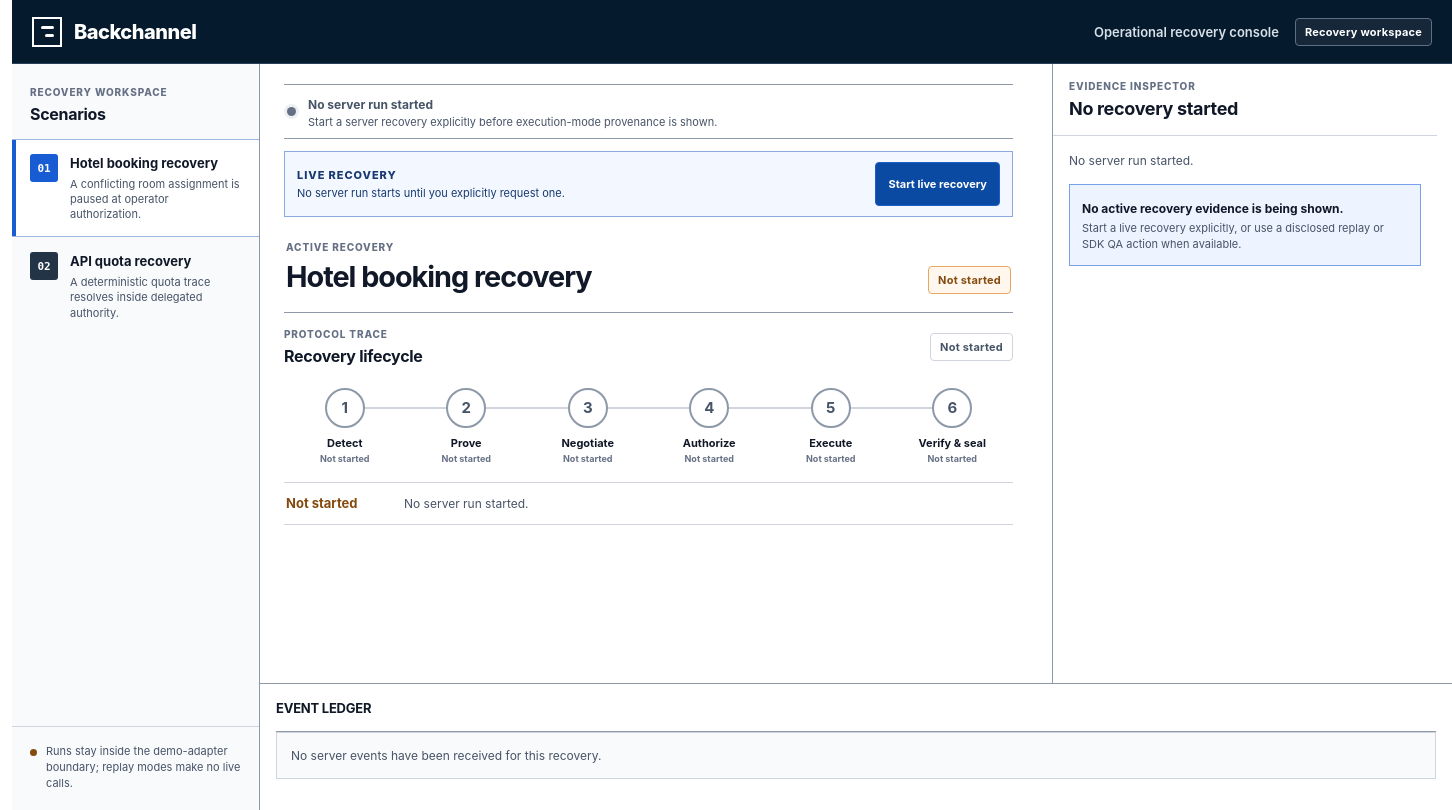
it: Backchannel console › renders GPT-5.6 agents only for a verified live backend and live snapshot
Click the button "Start live recovery". click: point(938, 184)
box: x1=876 y1=162 x2=1000 y2=206
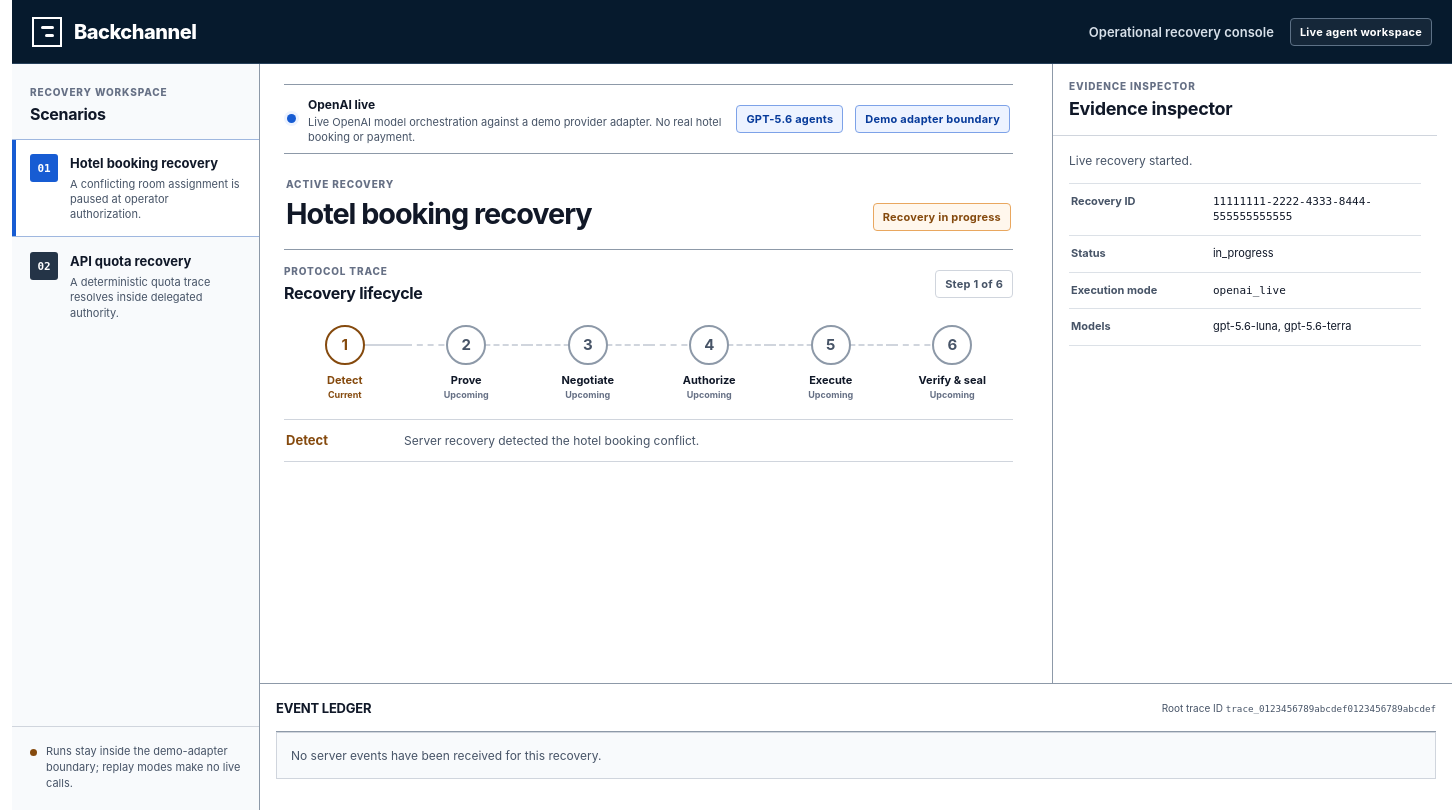
Now the text "GPT-5.6 agents" is shown, box x1=736 y1=105 x2=843 y2=133
